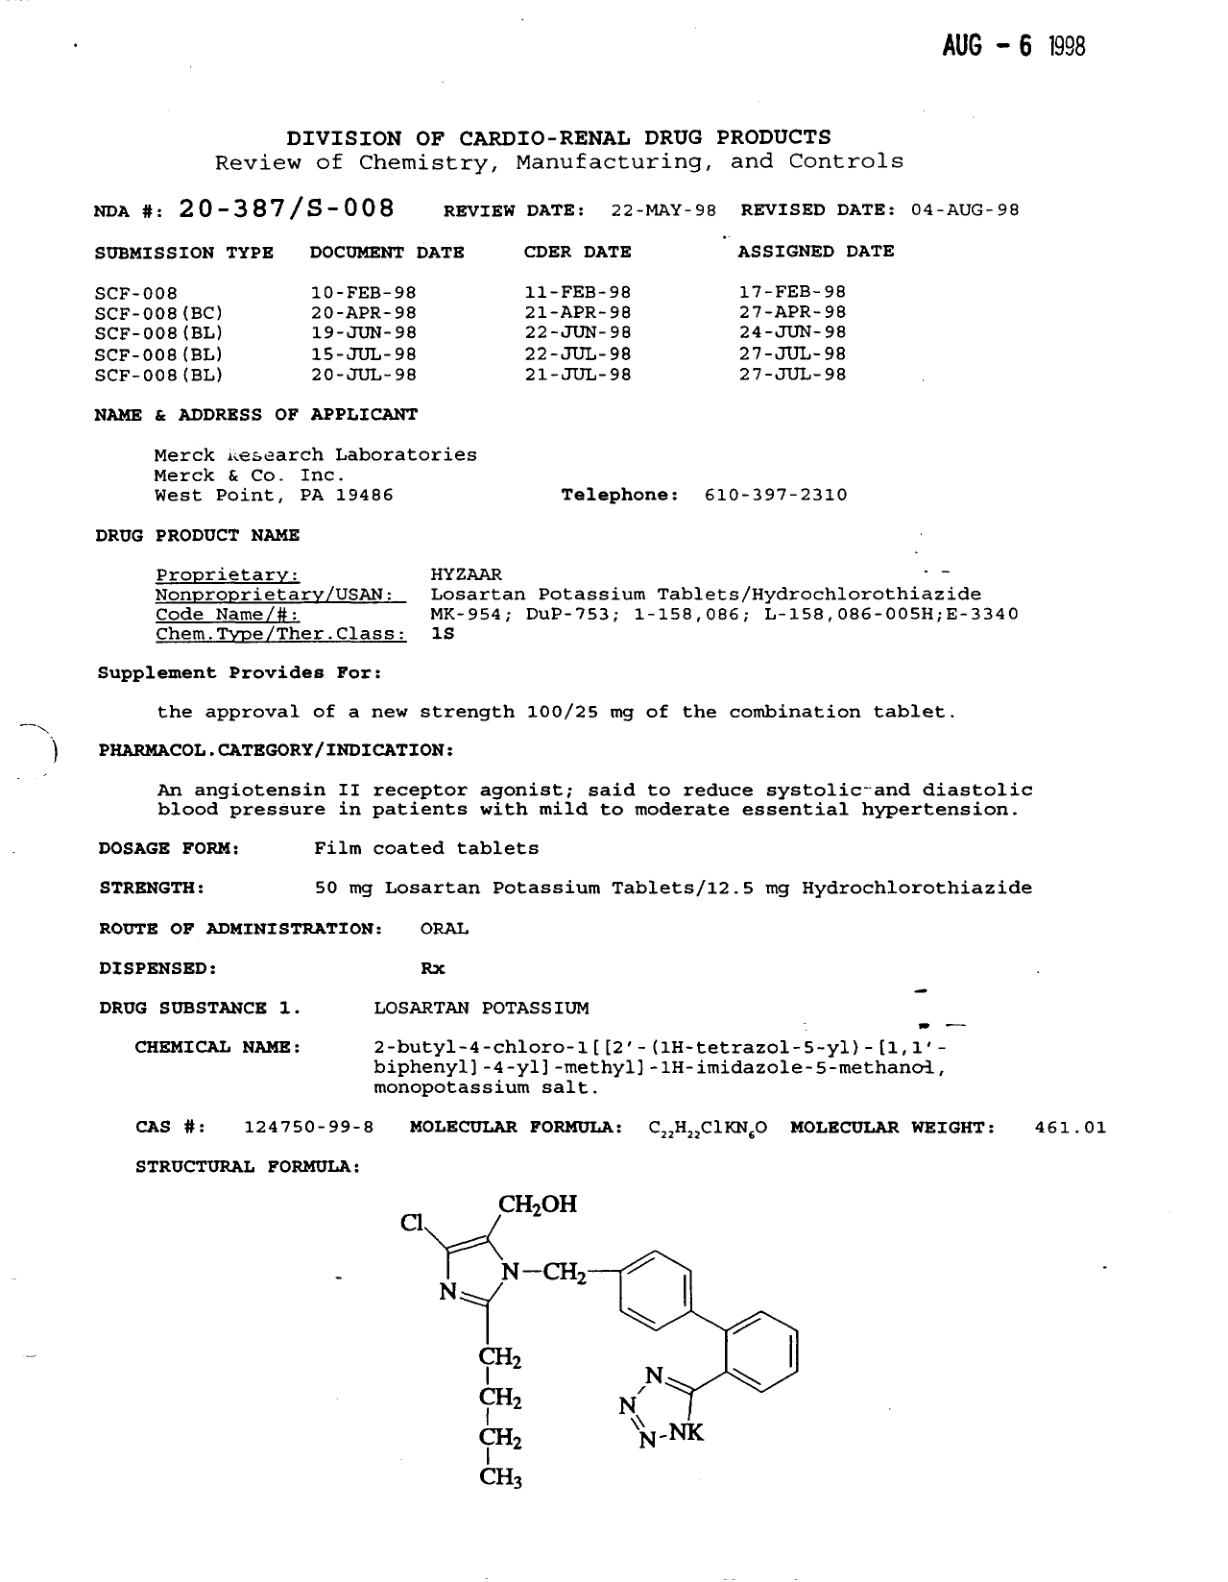nolines: (89, 243, 894, 381), (95, 996, 936, 1094), (153, 566, 1019, 646), (95, 836, 1038, 899), (152, 443, 848, 505), (98, 919, 471, 981)
